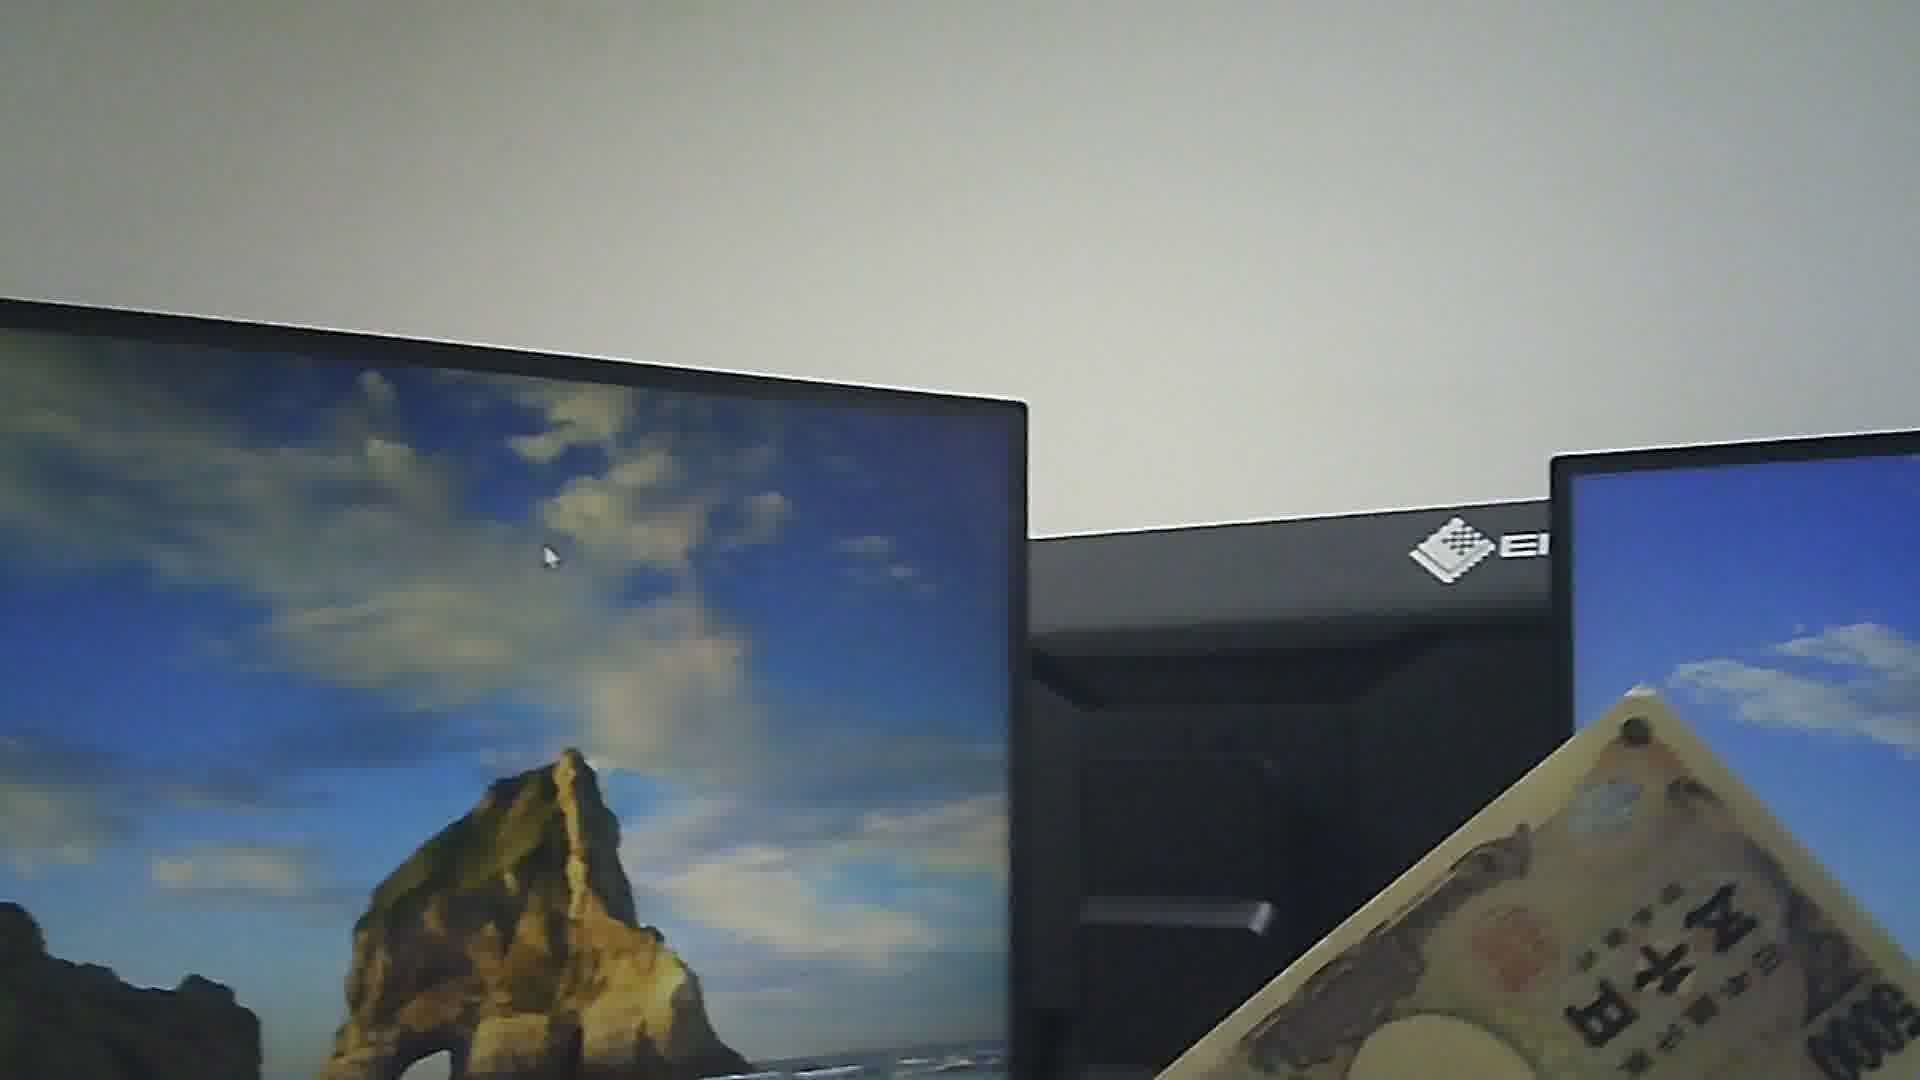5,000 Yen: (1197, 676, 1919, 1069)
